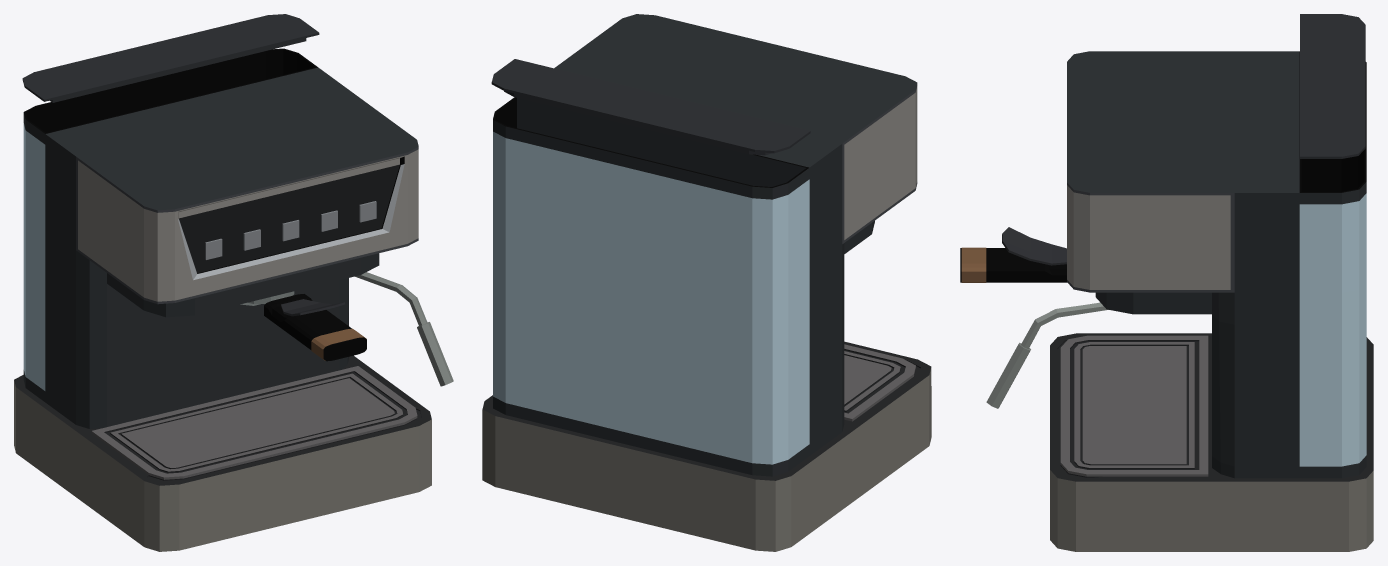
File: coffeemaker_01_E.gltf
3 views of the same model, side by side, from view 1: azimuth 30°, elevation 25°; view 2: azimuth 150°, elevation 25°; view 3: azimuth 270°, elevation 25° (orthographic). The views are drawn at different scales.
Parts seen in each view (by area): view 1: coffeemaker_01_E, Capforcoffemaker_01_E, leverarmforcoffemaker_01_E; view 2: coffeemaker_01_E, Capforcoffemaker_01_E; view 3: coffeemaker_01_E, Capforcoffemaker_01_E, leverarmforcoffemaker_01_E.
Boxes of the visible parts, x1=… form: coffeemaker_01_E: x1=14, y1=48, x2=453, y2=551; Capforcoffemaker_01_E: x1=22, y1=14, x2=319, y2=102; leverarmforcoffemaker_01_E: x1=240, y1=291, x2=366, y2=361; coffeemaker_01_E: x1=482, y1=14, x2=931, y2=551; Capforcoffemaker_01_E: x1=491, y1=59, x2=810, y2=155; coffeemaker_01_E: x1=986, y1=51, x2=1373, y2=551; Capforcoffemaker_01_E: x1=1300, y1=14, x2=1365, y2=158; leverarmforcoffemaker_01_E: x1=960, y1=227, x2=1066, y2=282.
Bounding box in the file's own units: 0.26 × 0.3211 × 0.3066.
1 material, 1 textured.
